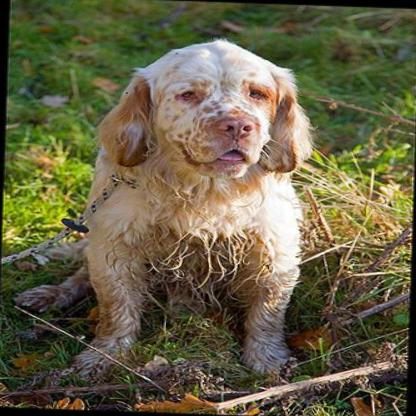clumber: (15, 31, 315, 386)
